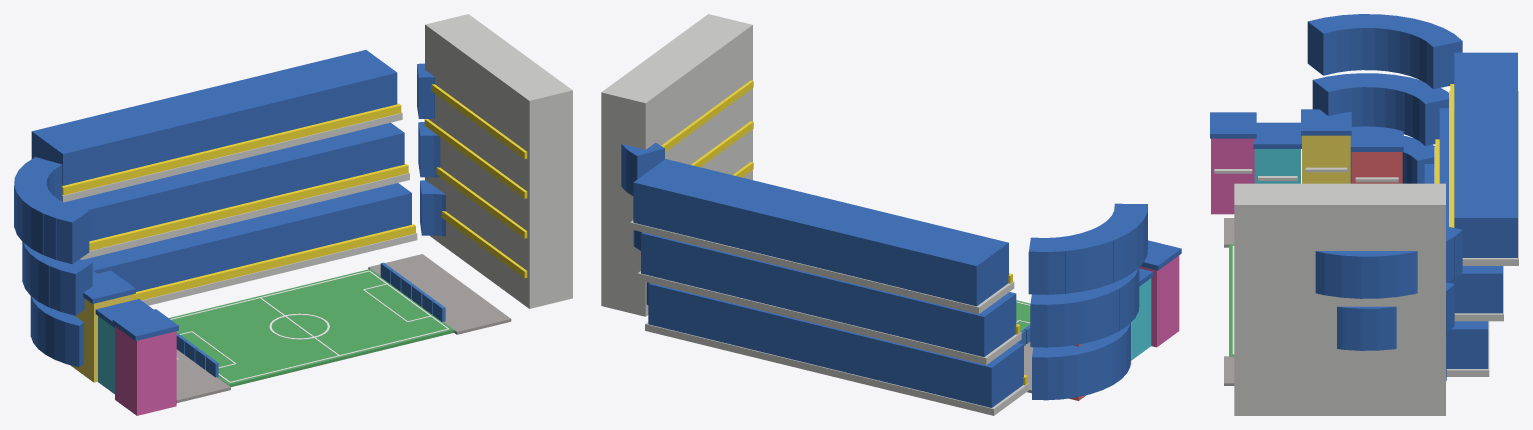
Rendered from SM_Stage_Bombonera_AR.glb.
The picture shows the model from 3 angles, left to right: view 1: azimuth 30°, elevation 25°; view 2: azimuth 150°, elevation 25°; view 3: azimuth 270°, elevation 25°; orthographic projection. The views are drawn at different scales.
Visible parts, largest first — view 1: SM_Stage_Bombonera_AR; view 2: SM_Stage_Bombonera_AR; view 3: SM_Stage_Bombonera_AR.
Boxes of the visible parts, box(x1,y1,x2,y2) form: SM_Stage_Bombonera_AR: box(14, 14, 572, 415); SM_Stage_Bombonera_AR: box(601, 14, 1181, 415); SM_Stage_Bombonera_AR: box(1210, 14, 1518, 415).
Bounding box in the file's own units: 54.31 × 22.33 × 29.2.
